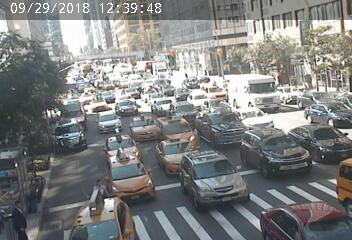car: (183, 155, 245, 201), (102, 156, 160, 199), (244, 130, 302, 170), (232, 74, 283, 106), (297, 123, 340, 160), (195, 111, 249, 140), (79, 206, 132, 234), (161, 120, 205, 145), (312, 98, 352, 121), (158, 145, 191, 172), (130, 115, 162, 138), (236, 109, 274, 128), (98, 113, 126, 134), (56, 125, 84, 144), (107, 134, 138, 151), (188, 86, 211, 106), (172, 103, 194, 120), (116, 97, 138, 113), (205, 87, 227, 103), (149, 95, 170, 111), (88, 98, 113, 111), (175, 89, 189, 99)
